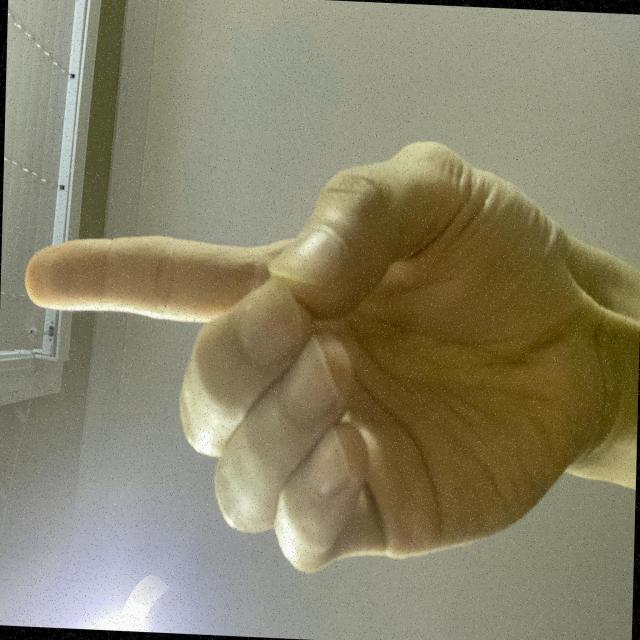D: (36, 14, 397, 640)
